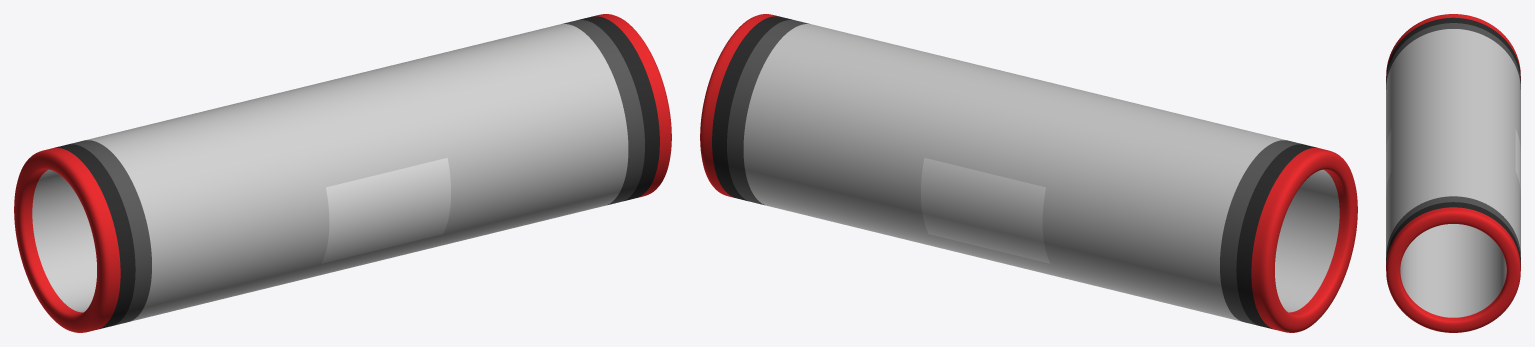
The model's file is tunnel.fbx.
3 renders of one model, left to right at view 1: azimuth 30°, elevation 25°; view 2: azimuth 150°, elevation 25°; view 3: azimuth 270°, elevation 25°, orthographic. The views are drawn at different scales.
Visible parts, largest first — view 1: тунель; view 2: тунель; view 3: тунель.
Part boxes in pixels (box(x1,y1,x2,y2)): тунель: box(14, 14, 671, 332); тунель: box(700, 14, 1357, 332); тунель: box(1386, 14, 1520, 332).
Bounding box in the file's own units: 1399 × 397 × 397.
